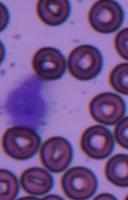M: (2, 72, 51, 128)
